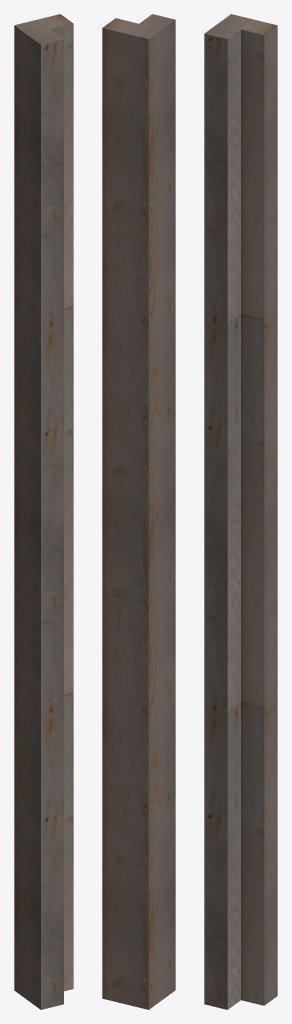
Rendered from Connector2.fbx.
3 renders of one model, left to right at view 1: azimuth 30°, elevation 25°; view 2: azimuth 150°, elevation 25°; view 3: azimuth 330°, elevation 25°, orthographic.
Parts seen in each view (by area): view 1: Connector2; view 2: Connector2; view 3: Connector2.
Part boxes in pixels (left/top/right/bottom): Connector2: left=14, top=14, right=73, bottom=1009; Connector2: left=102, top=14, right=175, bottom=1009; Connector2: left=204, top=14, right=277, bottom=1009.
Size of the model in its own units: 20 by 400 by 20.
Materials: 1 (1 with a texture image).
